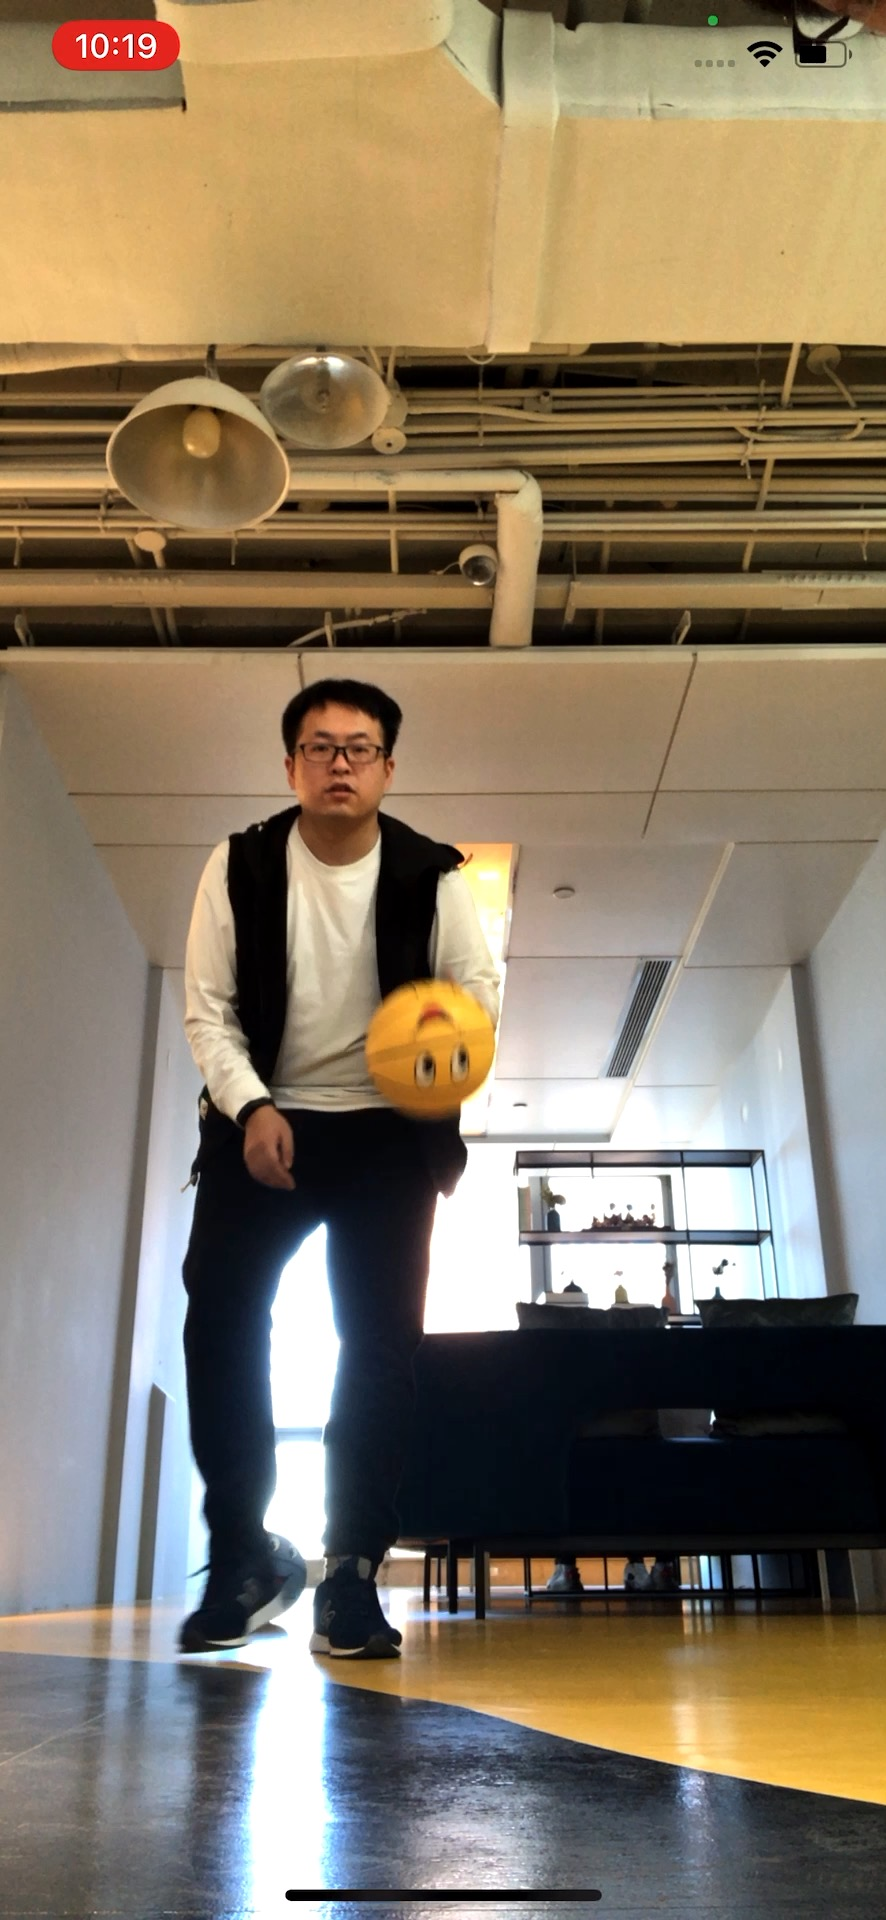ball: (365, 980, 501, 1116)
